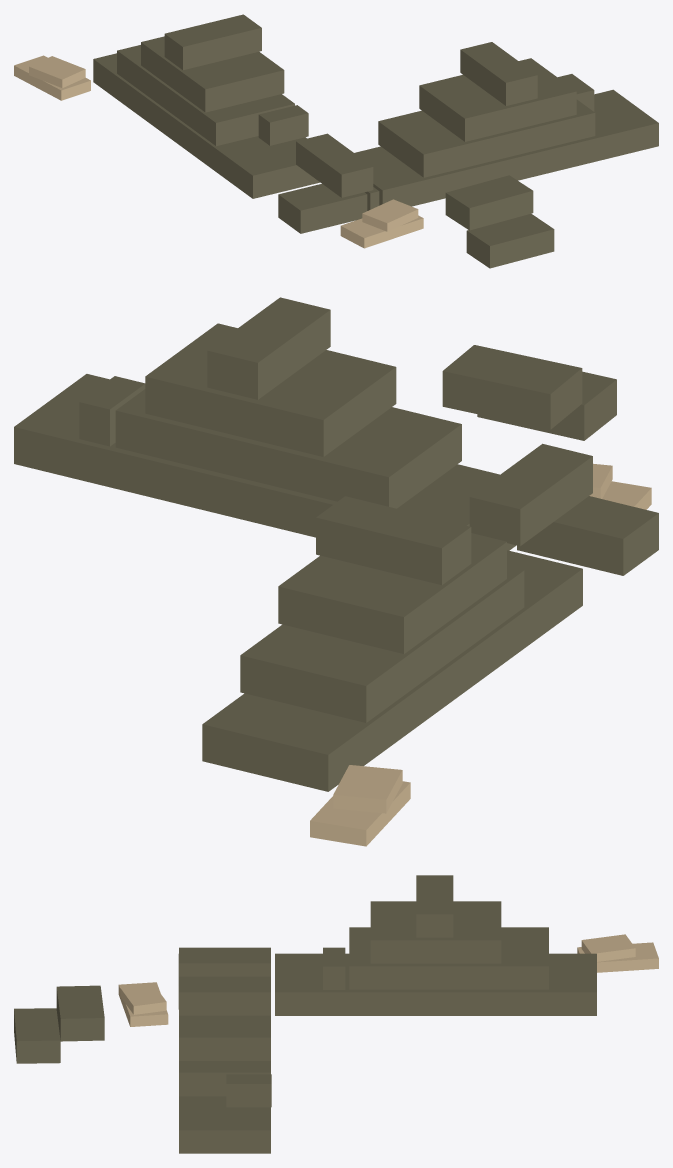
The model's file is SM_SacosEsquina_v1_Talud_e1_Danado_LOD1.fbx.
3 views of the same model, one above another, from view 1: azimuth 30°, elevation 25°; view 2: azimuth 150°, elevation 25°; view 3: azimuth 270°, elevation 25° (orthographic). The views are drawn at different scales.
Parts seen in each view (by area): view 1: SM_sacos_piezas_v5_LOD1; view 2: SM_sacos_piezas_v5_LOD1; view 3: SM_sacos_piezas_v5_LOD1.
Boxes of the visible parts, x1=… form: SM_sacos_piezas_v5_LOD1: x1=14, y1=14, x2=658, y2=268; SM_sacos_piezas_v5_LOD1: x1=14, y1=297, x2=658, y2=846; SM_sacos_piezas_v5_LOD1: x1=14, y1=875, x2=658, y2=1153.
Bounding box in the file's own units: 4.99 × 1.18 × 6.73.
